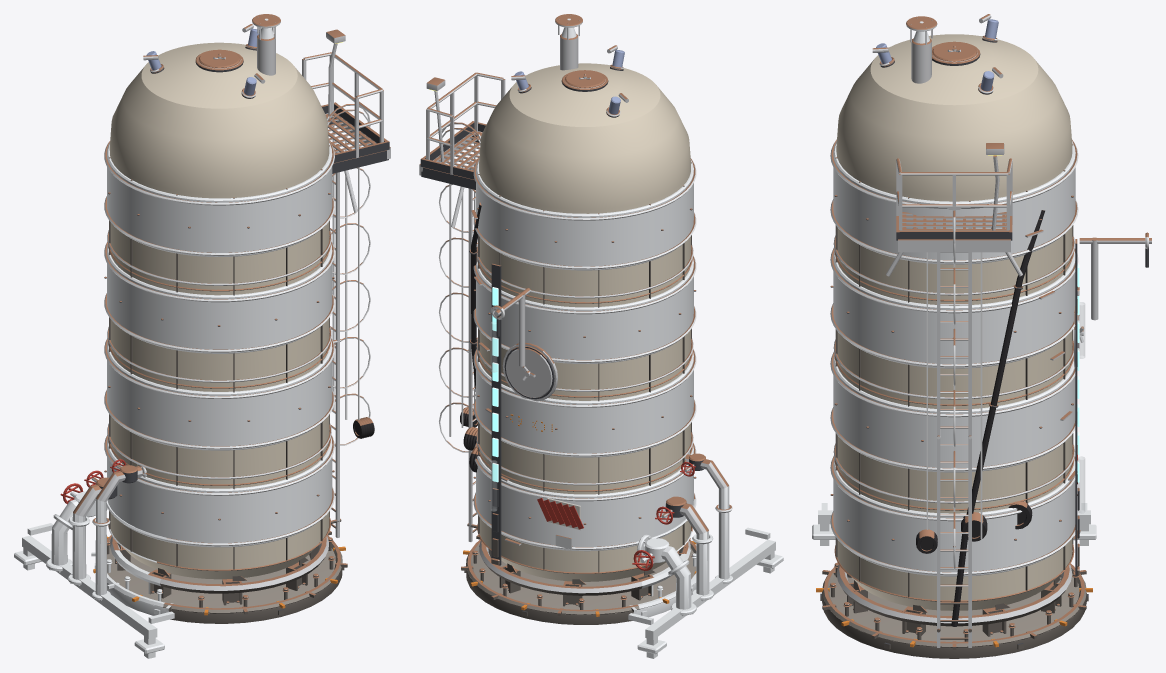
The model's file is cryo_tank.glb.
3 views of the same model, side by side, from view 1: azimuth 30°, elevation 25°; view 2: azimuth 150°, elevation 25°; view 3: azimuth 270°, elevation 25° (orthographic). The views are drawn at different scales.
Visible parts, largest first — view 1: cryo_body; view 2: cryo_body; view 3: cryo_body.
Part boxes in pixels (left/top/right/bottom): cryo_body: left=14, top=14, right=390, bottom=658; cryo_body: left=419, top=14, right=783, bottom=658; cryo_body: left=812, top=14, right=1151, bottom=658.
Size of the model in its own units: 5.57 by 10.21 by 5.18.
